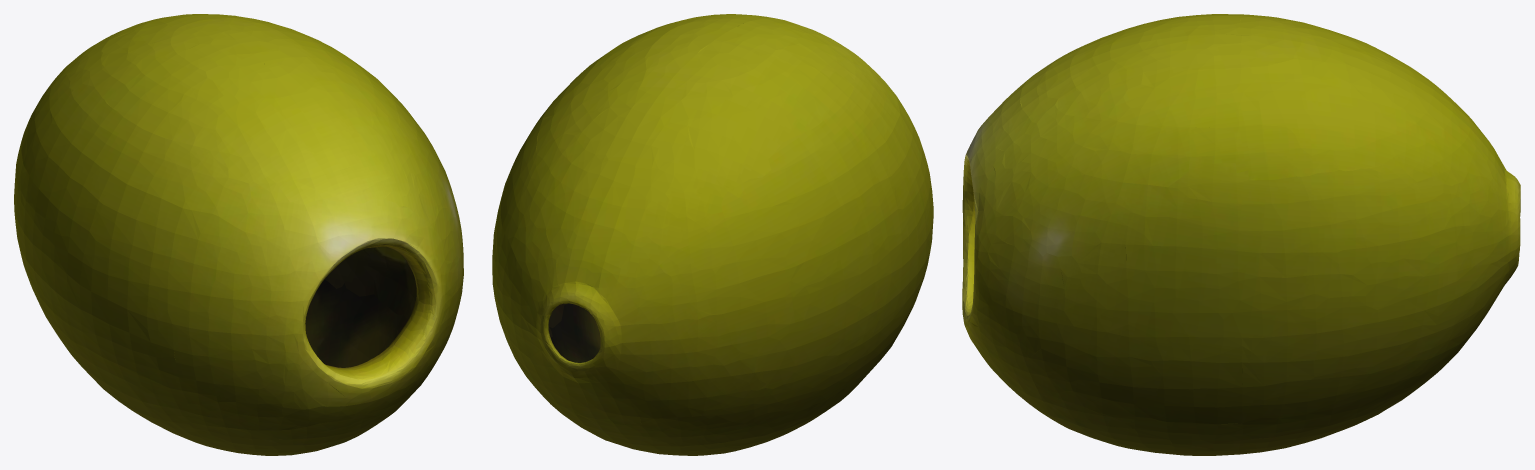
File: olive_green.glb
3 renders of one model, left to right at view 1: azimuth 30°, elevation 25°; view 2: azimuth 150°, elevation 25°; view 3: azimuth 270°, elevation 25°, orthographic. The views are drawn at different scales.
Visible parts, largest first — view 1: geometry_0; view 2: geometry_0; view 3: geometry_0.
Boxes of the visible parts, left/top/right/bottom form: geometry_0: left=14, top=14, right=463, bottom=455; geometry_0: left=492, top=14, right=933, bottom=455; geometry_0: left=962, top=14, right=1520, bottom=455.
Bounding box in the file's own units: 0.7538 × 0.788 × 0.9957.
Materials: 1 (1 with a texture image).
